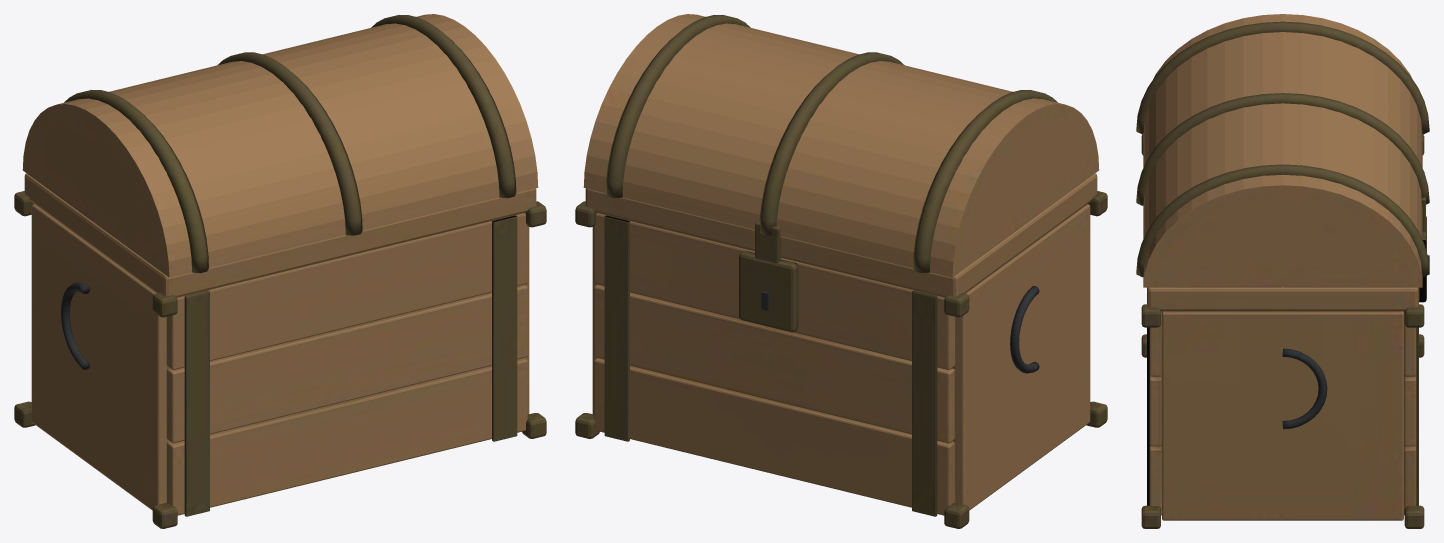
File: tool_chest.glb
3 renders of one model, left to right at view 1: azimuth 30°, elevation 25°; view 2: azimuth 150°, elevation 25°; view 3: azimuth 270°, elevation 25°, orthographic. The views are drawn at different scales.
Parts seen in each view (by area): view 1: chest-body, chest-lid; view 2: chest-body, chest-lid; view 3: chest-lid, chest-body.
Part boxes in pixels (x1,y1,x2,y2): chest-body: (14, 191, 546, 528); chest-lid: (22, 14, 538, 297); chest-body: (575, 191, 1107, 528); chest-lid: (583, 14, 1099, 297); chest-lid: (1136, 14, 1429, 311); chest-body: (1141, 134, 1429, 528).
Size of what is drawn, in the model's own units: 0.49 by 0.4293 by 0.3299.
1 material, 1 textured.
